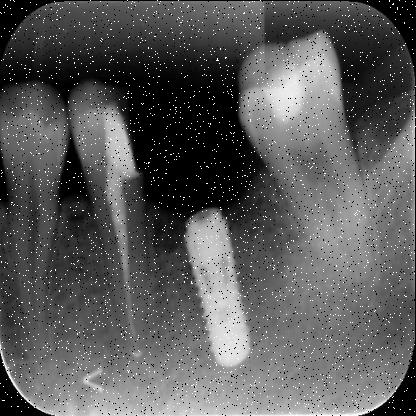ITI: (177, 177, 265, 377)
